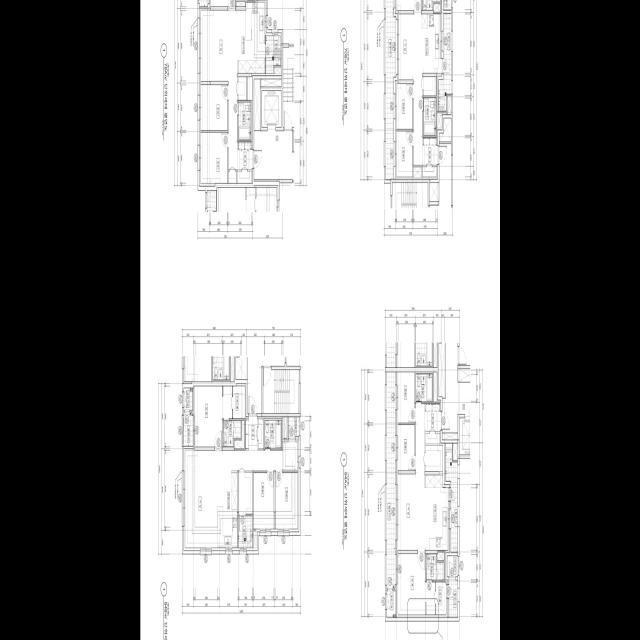background: (140, 0, 500, 640)
space_balconi: (385, 0, 396, 180), (386, 372, 395, 589), (445, 444, 457, 552), (438, 14, 451, 111), (265, 36, 280, 73), (238, 516, 252, 548), (183, 412, 193, 446), (449, 579, 457, 618)
space_bedroom: (194, 386, 222, 447), (398, 554, 425, 615), (200, 132, 227, 183), (275, 473, 297, 529), (200, 85, 227, 130), (253, 473, 274, 529), (398, 372, 414, 423), (396, 83, 412, 129), (398, 425, 414, 471), (396, 131, 412, 177)
space_dressroom: (223, 386, 245, 419), (426, 582, 446, 615)
space_elevator: (262, 91, 281, 127)
space_elevator_hall: (254, 131, 292, 179)
space_front: (424, 404, 441, 432), (237, 142, 253, 170), (245, 415, 257, 450), (422, 138, 437, 165)
space_kitchen: (238, 2, 265, 74), (425, 475, 448, 550), (217, 471, 237, 548), (422, 14, 442, 73)
space_living_room: (185, 442, 297, 548), (200, 10, 238, 170), (398, 404, 425, 550), (398, 14, 422, 165)
space_other: (238, 473, 252, 514), (425, 445, 442, 472), (254, 79, 260, 130), (439, 118, 451, 142), (234, 421, 244, 448), (423, 77, 436, 96), (288, 417, 299, 439), (447, 556, 457, 577), (429, 183, 439, 202), (238, 77, 246, 100), (258, 419, 264, 449), (237, 171, 251, 183), (261, 79, 281, 87), (422, 167, 436, 177), (425, 434, 439, 444), (442, 433, 457, 440), (228, 171, 236, 183), (433, 372, 436, 402), (283, 417, 287, 438), (443, 0, 451, 10), (413, 167, 421, 177), (447, 96, 451, 115), (436, 113, 441, 128), (453, 444, 457, 460), (437, 552, 444, 561), (433, 4, 440, 12), (253, 531, 256, 548), (236, 1, 245, 6), (274, 67, 280, 74)
space_outdoor_room: (386, 591, 396, 618), (183, 388, 192, 410)
space_staircase: (263, 370, 299, 413)
space_toilet: (423, 98, 436, 136), (238, 102, 251, 140), (415, 374, 432, 402), (264, 420, 281, 448), (426, 554, 444, 580), (223, 421, 241, 447), (422, 0, 440, 10)
